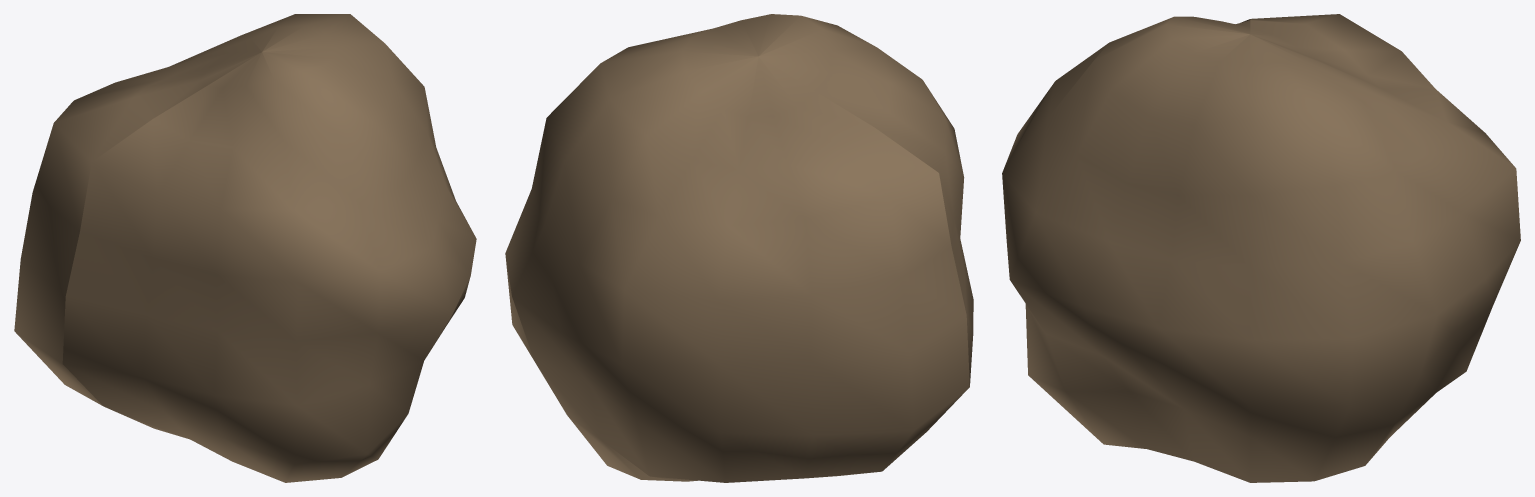
The model's file is DesertRock2.glb.
3 renders of one model, left to right at view 1: azimuth 30°, elevation 25°; view 2: azimuth 150°, elevation 25°; view 3: azimuth 270°, elevation 25°, orthographic. The views are drawn at different scales.
Bounding box in the file's own units: 0.7384 × 0.676 × 0.8026.
